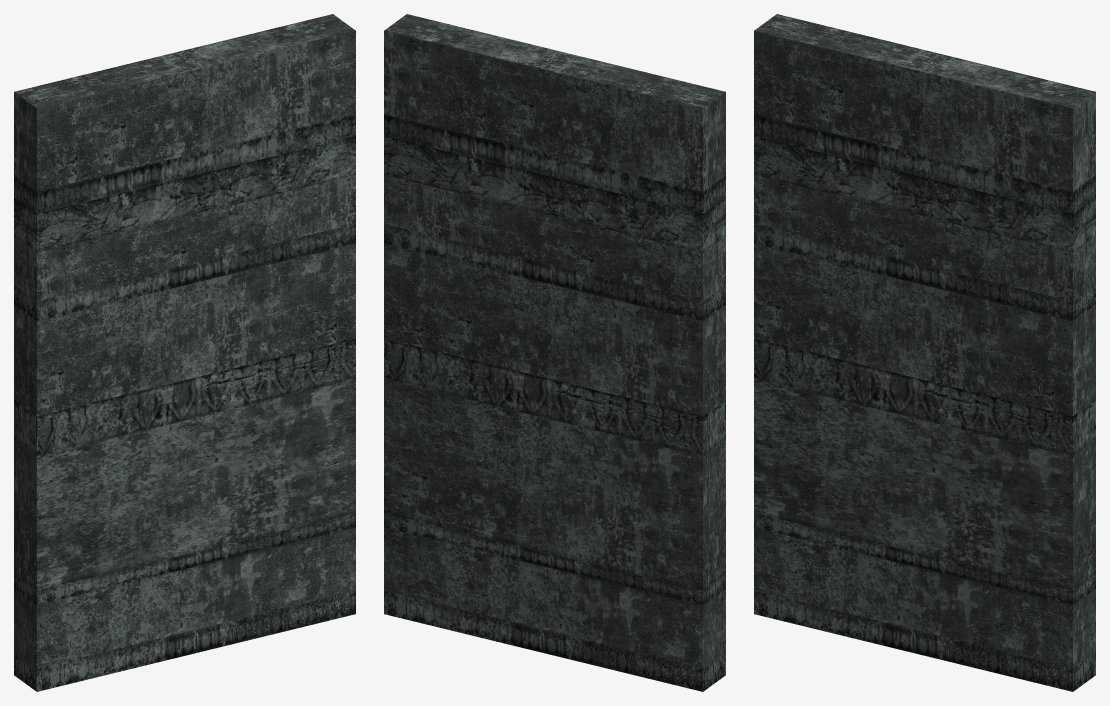
Rendered from mg_9_plate_0.fbx.
The picture shows the model from 3 angles, left to right: view 1: azimuth 30°, elevation 25°; view 2: azimuth 150°, elevation 25°; view 3: azimuth 330°, elevation 25°; orthographic projection.
Parts seen in each view (by area): view 1: mg_9_plate_0; view 2: mg_9_plate_0; view 3: mg_9_plate_0.
Part boxes in pixels (x1,y1,x2,y2): mg_9_plate_0: (14,14,355,691); mg_9_plate_0: (384,14,725,691); mg_9_plate_0: (754,14,1095,691).
Size of the model in its own units: 455 by 794 by 56.34.
